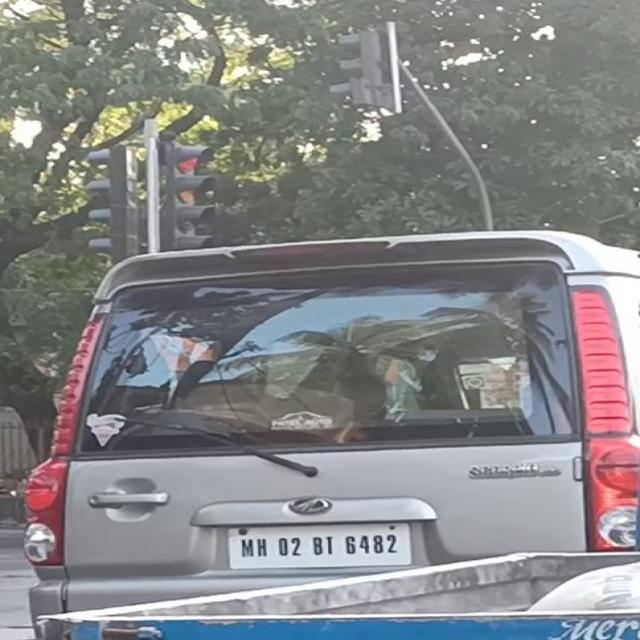Plate: (223, 522, 414, 568)
